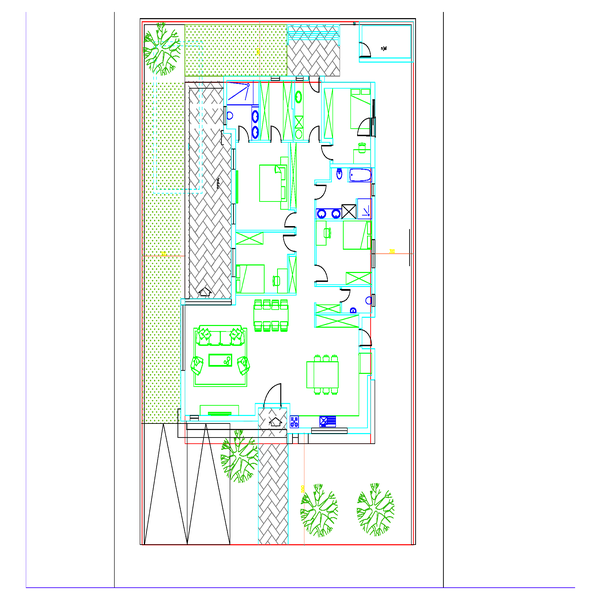door: (257, 384, 288, 406), (357, 114, 377, 139), (281, 207, 301, 231), (337, 282, 357, 306), (232, 124, 250, 149), (268, 124, 283, 149), (306, 73, 323, 95), (306, 124, 322, 146), (356, 44, 374, 62), (314, 181, 328, 203), (281, 232, 299, 249), (359, 331, 375, 350), (315, 259, 328, 280)
window: (228, 202, 243, 231), (312, 426, 351, 436), (226, 247, 237, 275), (227, 148, 239, 169)
